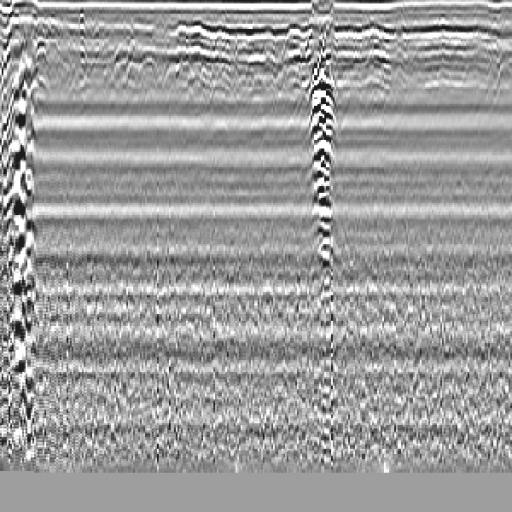metalic: (288, 48, 363, 365)
